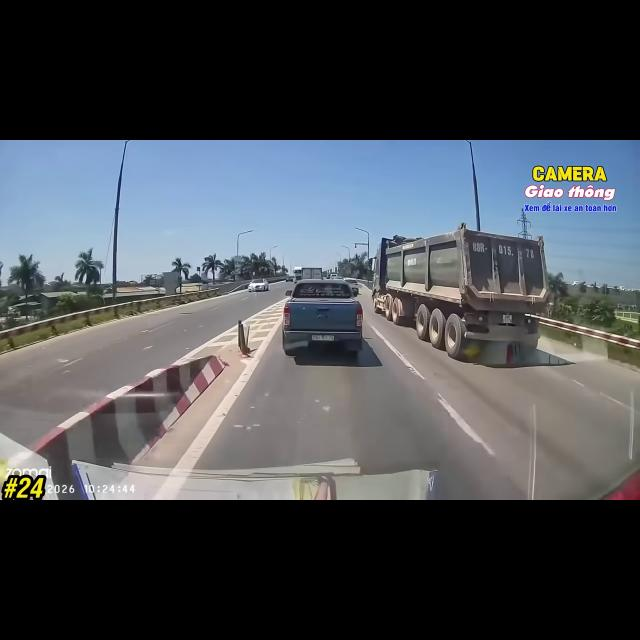car: (282, 280, 363, 356), (344, 278, 359, 295), (248, 279, 268, 291), (328, 273, 338, 279), (331, 276, 343, 280), (286, 276, 293, 281)
truck: (369, 223, 548, 360), (294, 267, 322, 282), (301, 267, 322, 279)
